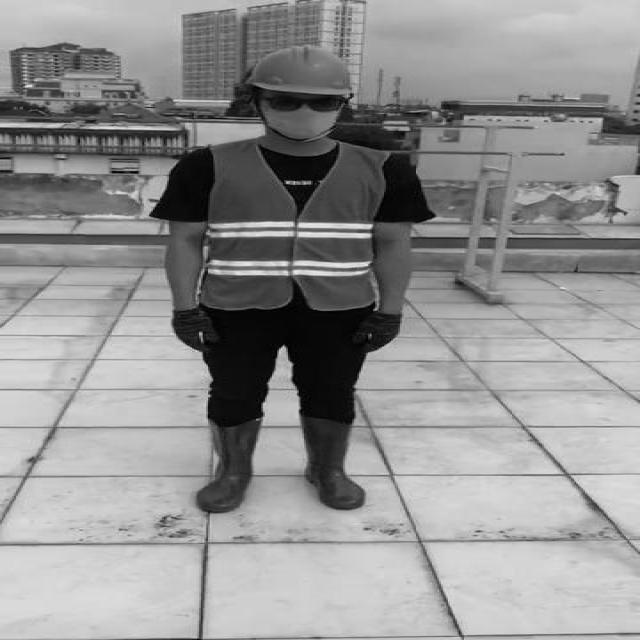boots: (195, 416, 265, 512), (299, 418, 368, 509)
face_mask: (249, 86, 347, 144)
glasses: (255, 92, 353, 116)
hand_glove: (352, 312, 404, 354), (170, 310, 218, 351)
head_helmet: (247, 42, 359, 96)
person: (157, 46, 431, 514)
vest: (199, 140, 384, 310)
